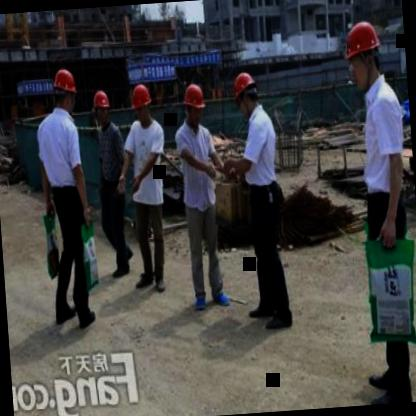helmet: (340, 12, 388, 94), (50, 63, 79, 112), (231, 66, 260, 115), (180, 78, 206, 126), (129, 79, 154, 122), (90, 88, 112, 130)
